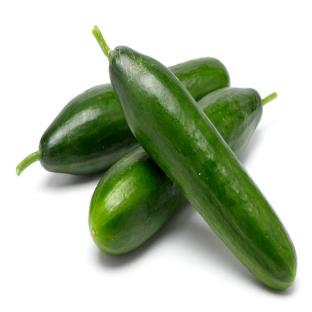Cucumber: (93, 27, 296, 289), (17, 84, 138, 175), (89, 147, 186, 254)
